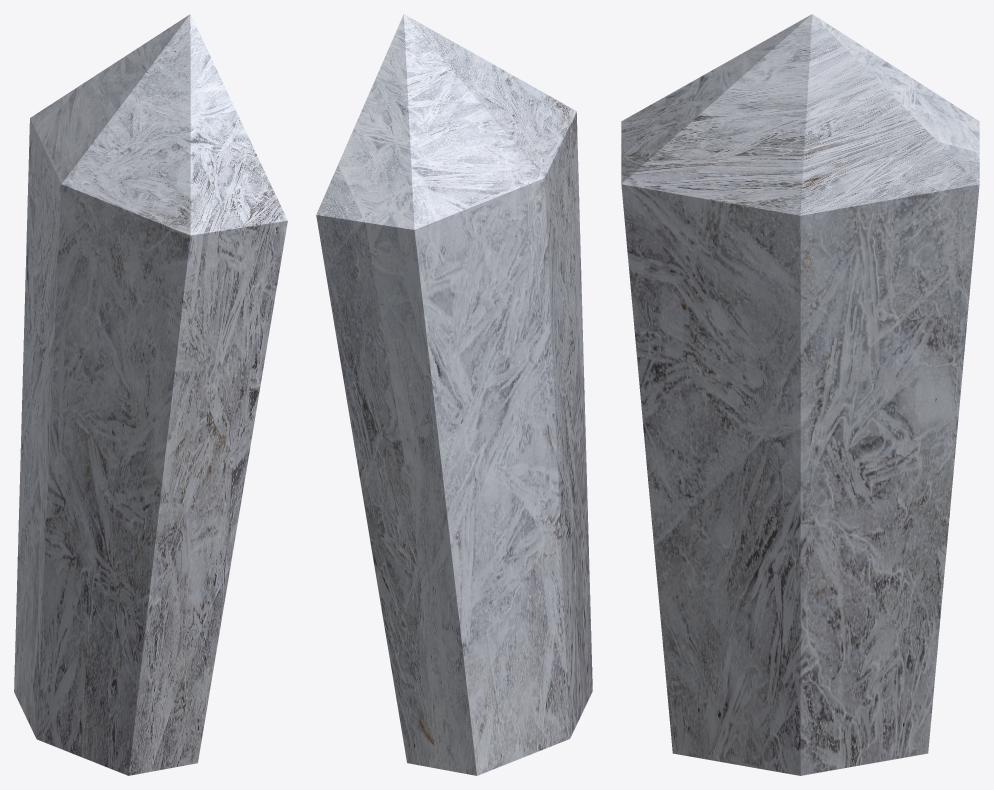
File: LampLight_3DAsset_BackgroundCrystal2.FBX
The picture shows the model from 3 angles, left to right: view 1: azimuth 30°, elevation 25°; view 2: azimuth 150°, elevation 25°; view 3: azimuth 270°, elevation 25°; orthographic projection. The views are drawn at different scales.
Visible parts, largest first — view 1: LampLight_BG_Crystal2; view 2: LampLight_BG_Crystal2; view 3: LampLight_BG_Crystal2.
Part boxes in pixels (x1,y1,x2,y2): LampLight_BG_Crystal2: (14, 14, 287, 775); LampLight_BG_Crystal2: (316, 14, 592, 775); LampLight_BG_Crystal2: (621, 14, 979, 775).
Size of the model in its own units: 7.55 by 22.77 by 9.56.
